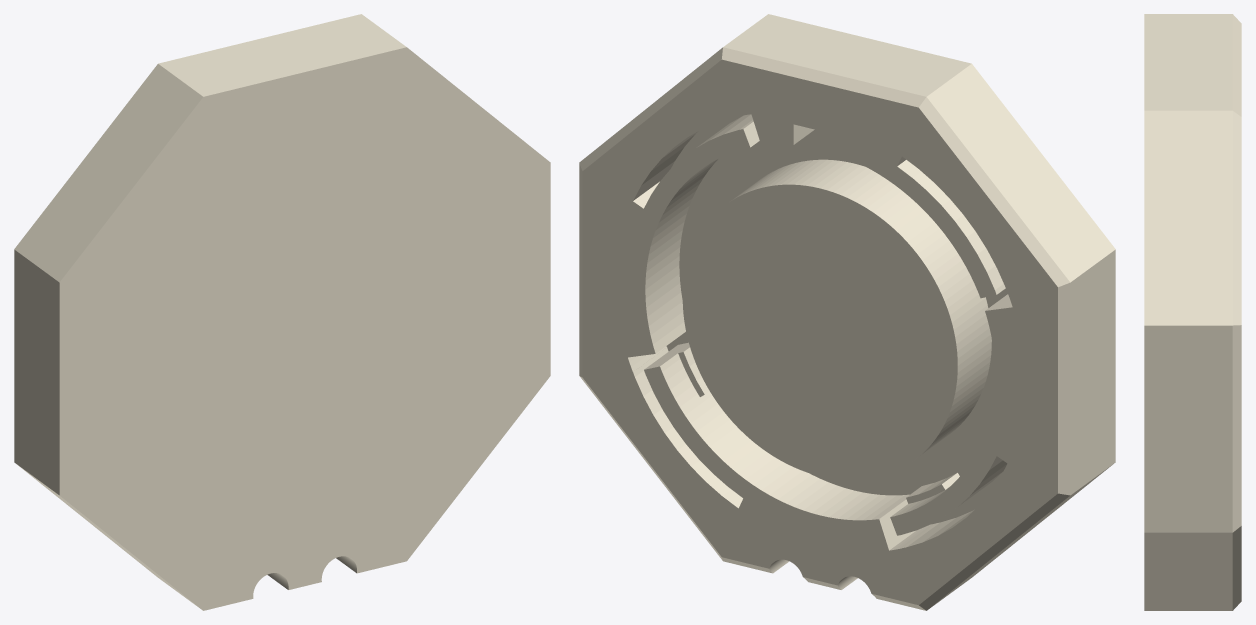
The model's file is coupon-if2-socket-15@ivory.glb.
3 renders of one model, left to right at view 1: azimuth 30°, elevation 25°; view 2: azimuth 150°, elevation 25°; view 3: azimuth 270°, elevation 25°, orthographic. The views are drawn at different scales.
Parts seen in each view (by area): view 1: geometry_0; view 2: geometry_0; view 3: geometry_0.
Part boxes in pixels (box(x1,y1,x2,y2)): geometry_0: box(14, 14, 550, 610); geometry_0: box(579, 14, 1115, 610); geometry_0: box(1144, 14, 1241, 610).
Size of the model in its own units: 25 by 25 by 4.4.
